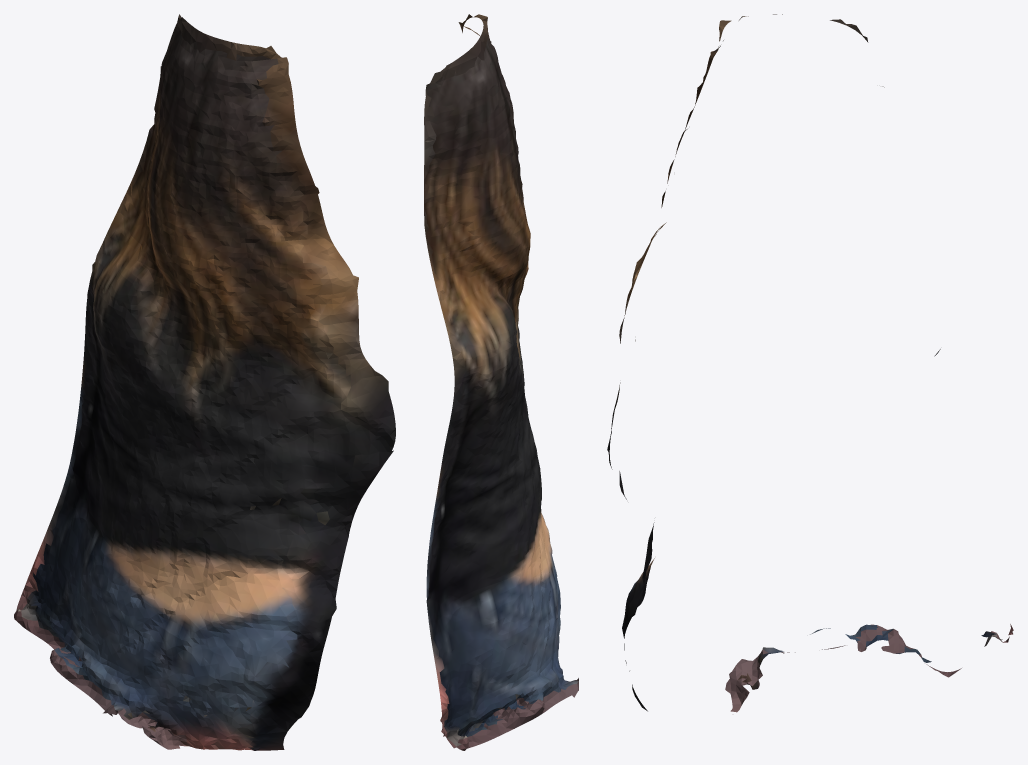
3 views of the same model, side by side, from view 1: azimuth 30°, elevation 25°; view 2: azimuth 150°, elevation 25°; view 3: azimuth 270°, elevation 25° (orthographic). The views are drawn at different scales.
Size of the model in its own units: 0.2689 by 0.8042 by 0.4079.
1 material, 1 textured.
